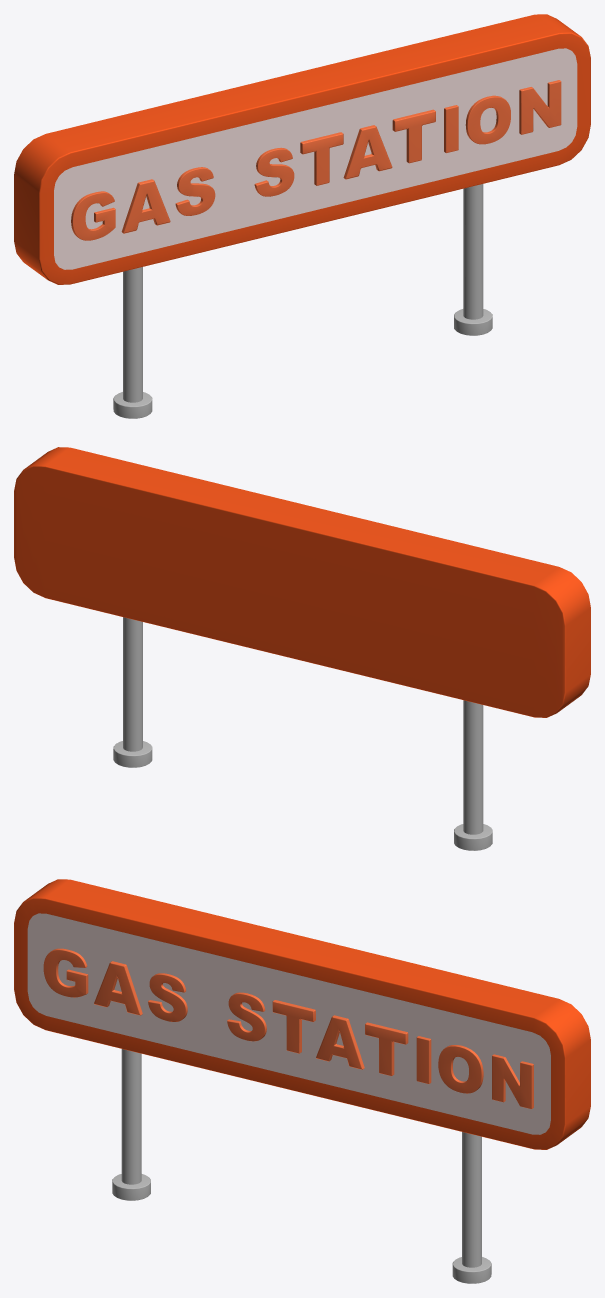
The model's file is Public_5_Gas_Servise_Sign_1.glb.
3 renders of one model, top to bottom at view 1: azimuth 30°, elevation 25°; view 2: azimuth 150°, elevation 25°; view 3: azimuth 330°, elevation 25°, orthographic.
Parts seen in each view (by area): view 1: Public_5_Gas_Servise_Sign_1; view 2: Public_5_Gas_Servise_Sign_1; view 3: Public_5_Gas_Servise_Sign_1.
Boxes of the visible parts, x1,y1,x2,y2 form: Public_5_Gas_Servise_Sign_1: [14, 14, 590, 418]; Public_5_Gas_Servise_Sign_1: [14, 447, 590, 850]; Public_5_Gas_Servise_Sign_1: [14, 879, 590, 1283].
Bounding box in the file's own units: 3.86 × 1.9 × 0.3398.
Materials: 1 (1 with a texture image).
